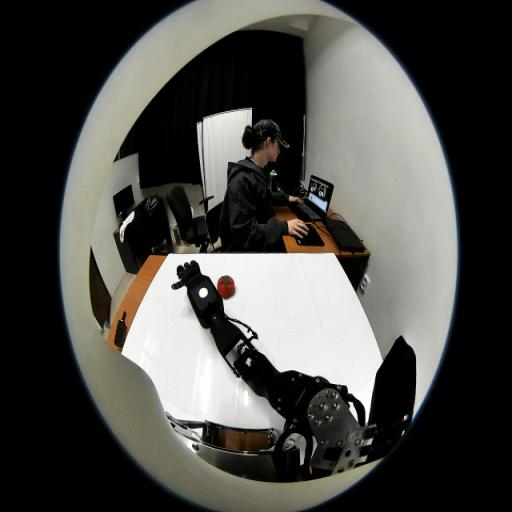RightHand: (182, 265, 200, 282)
Tomato: (217, 275, 235, 300)
